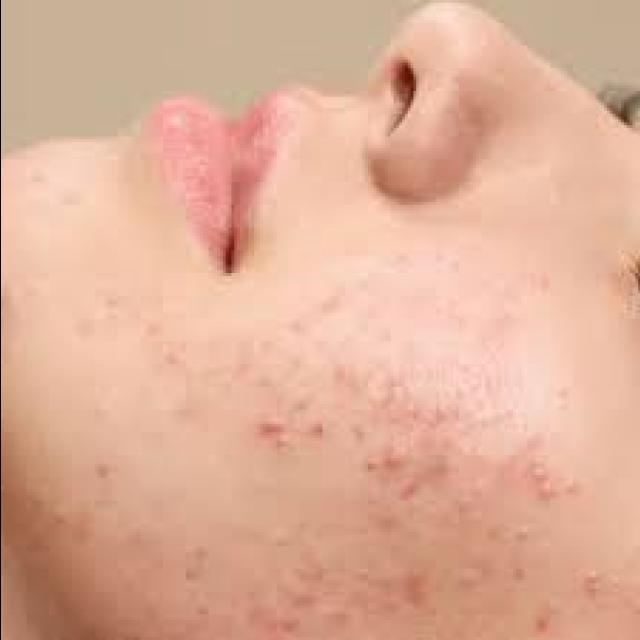Acne: (399, 562, 436, 612), (356, 447, 412, 479), (256, 414, 290, 454), (430, 448, 466, 484), (574, 567, 610, 600), (528, 462, 556, 502), (422, 394, 454, 428), (282, 585, 320, 613), (69, 514, 101, 546), (396, 476, 426, 510), (452, 564, 484, 594), (505, 519, 540, 546), (304, 560, 336, 588), (272, 614, 306, 638), (525, 614, 552, 638), (454, 486, 476, 512), (468, 476, 492, 496)
